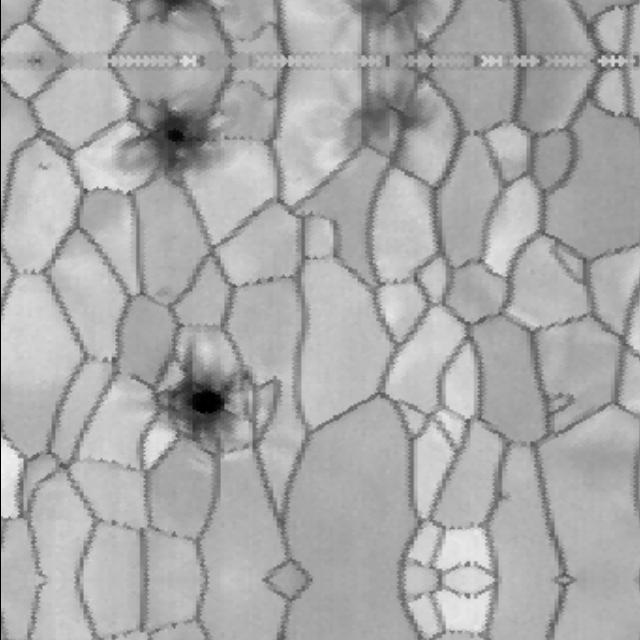good_void: (309, 74, 447, 168), (151, 341, 250, 455), (103, 95, 220, 180), (316, 0, 447, 46), (113, 0, 215, 25), (26, 159, 55, 176), (238, 435, 250, 453), (498, 492, 510, 507)
